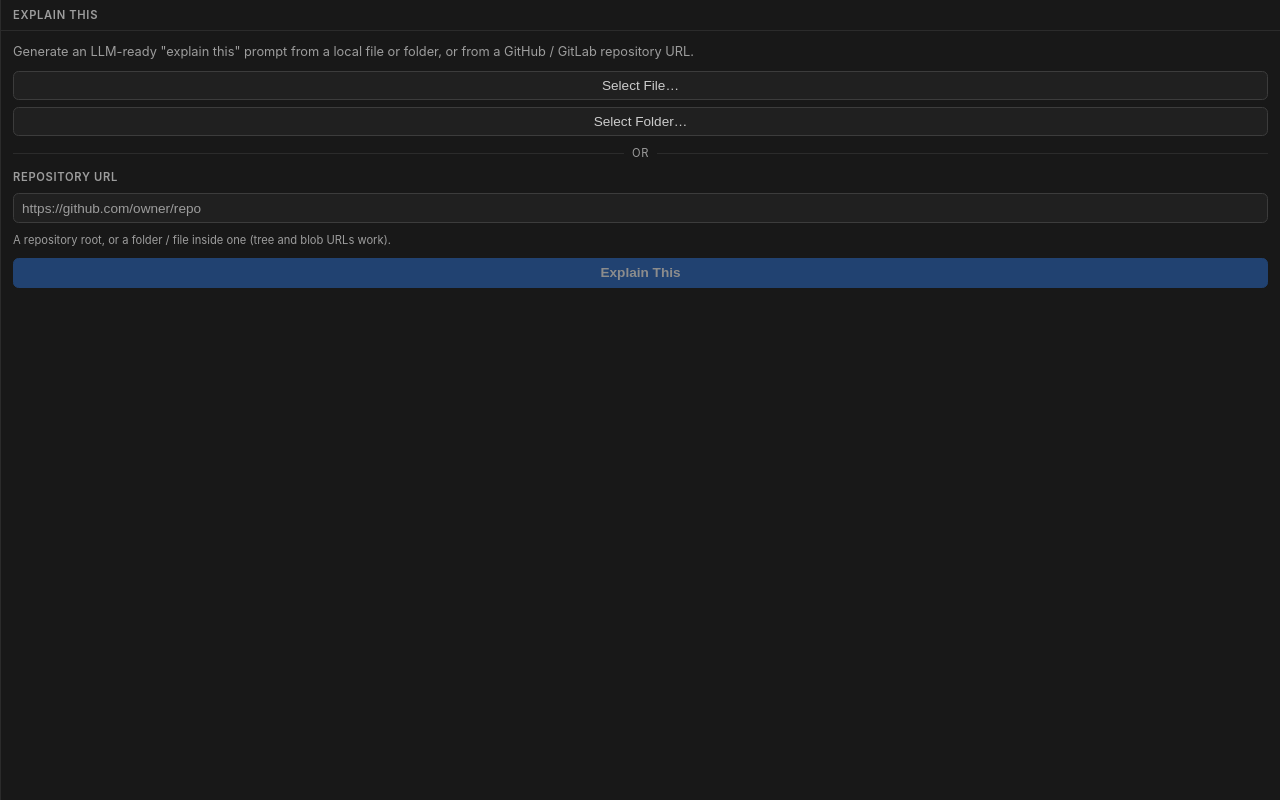
ExplainPanelComponent › URL flow › surfaces the backend ProblemDetails title when the request fails
This screenshot has width=1280, height=800.
Type "https://example.com/owner/repo" into the field labelled "Repository URL". click: (640,208)
box: [13, 193, 1268, 223]
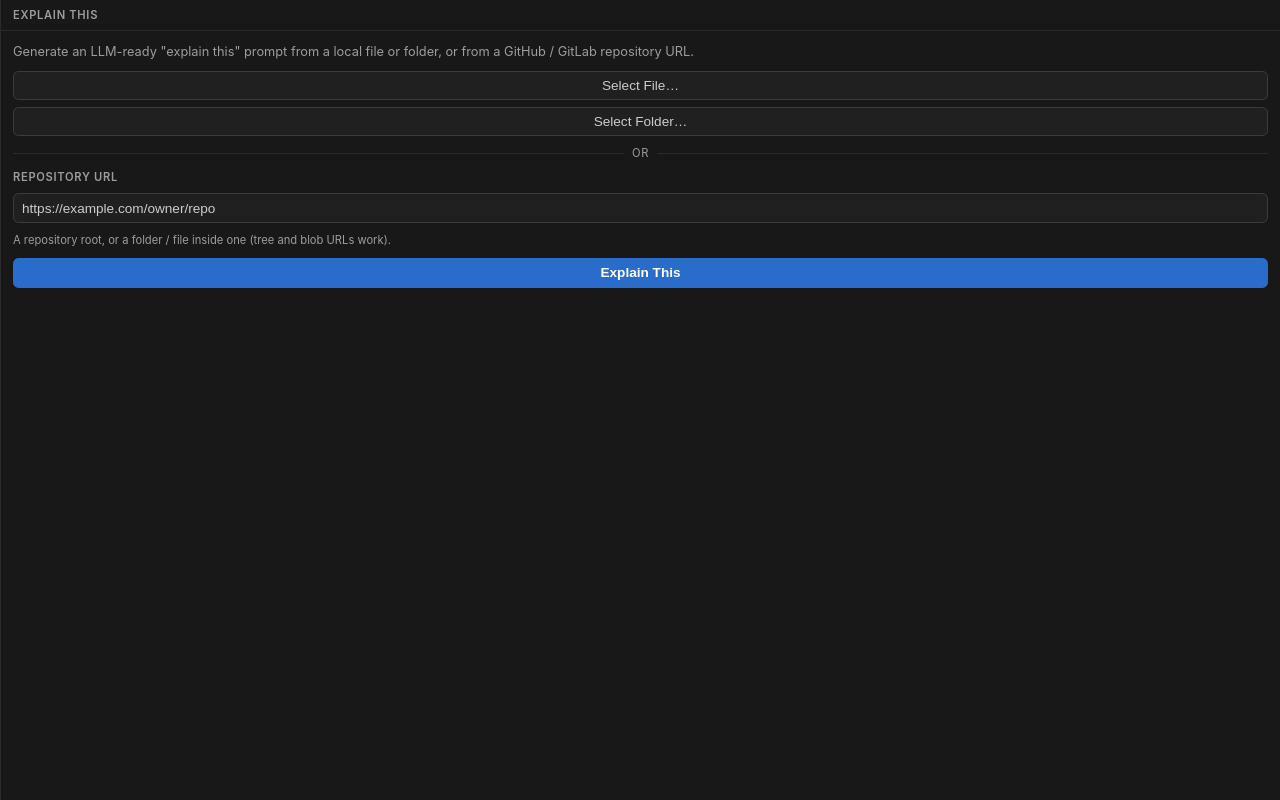
Click the button "Explain This". click: (640,273)
box: [13, 258, 1268, 288]
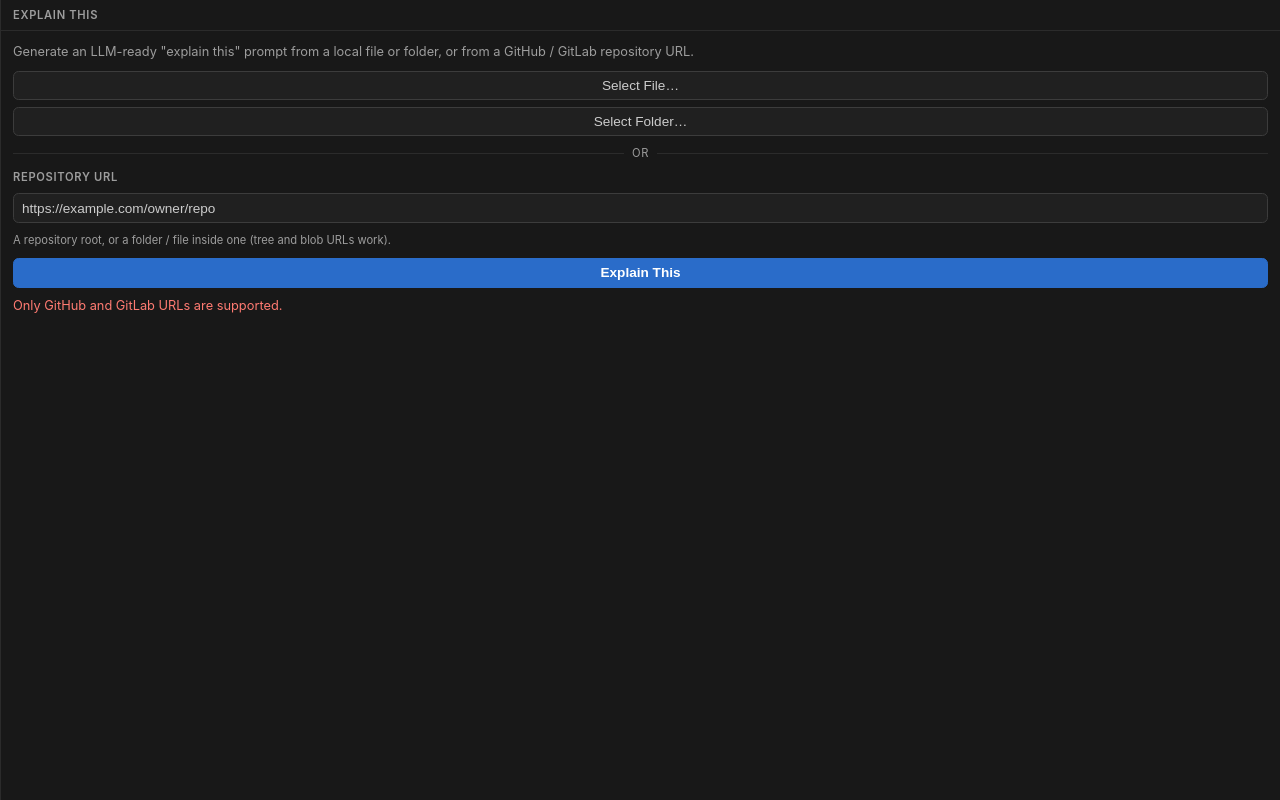
Result: the message "Only GitHub and GitLab URLs are supported." is shown at [13, 298, 282, 313]
